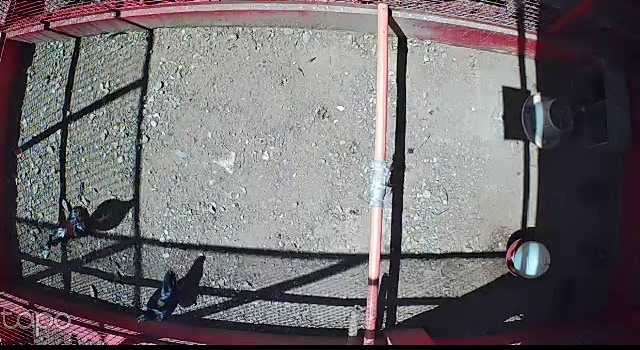Chicken: (131, 265, 189, 332)
Rooster: (46, 197, 115, 252)
Saddle_Color_Yellow: (158, 299, 166, 307)
